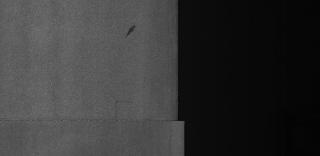welding line: (1, 115, 189, 127)
